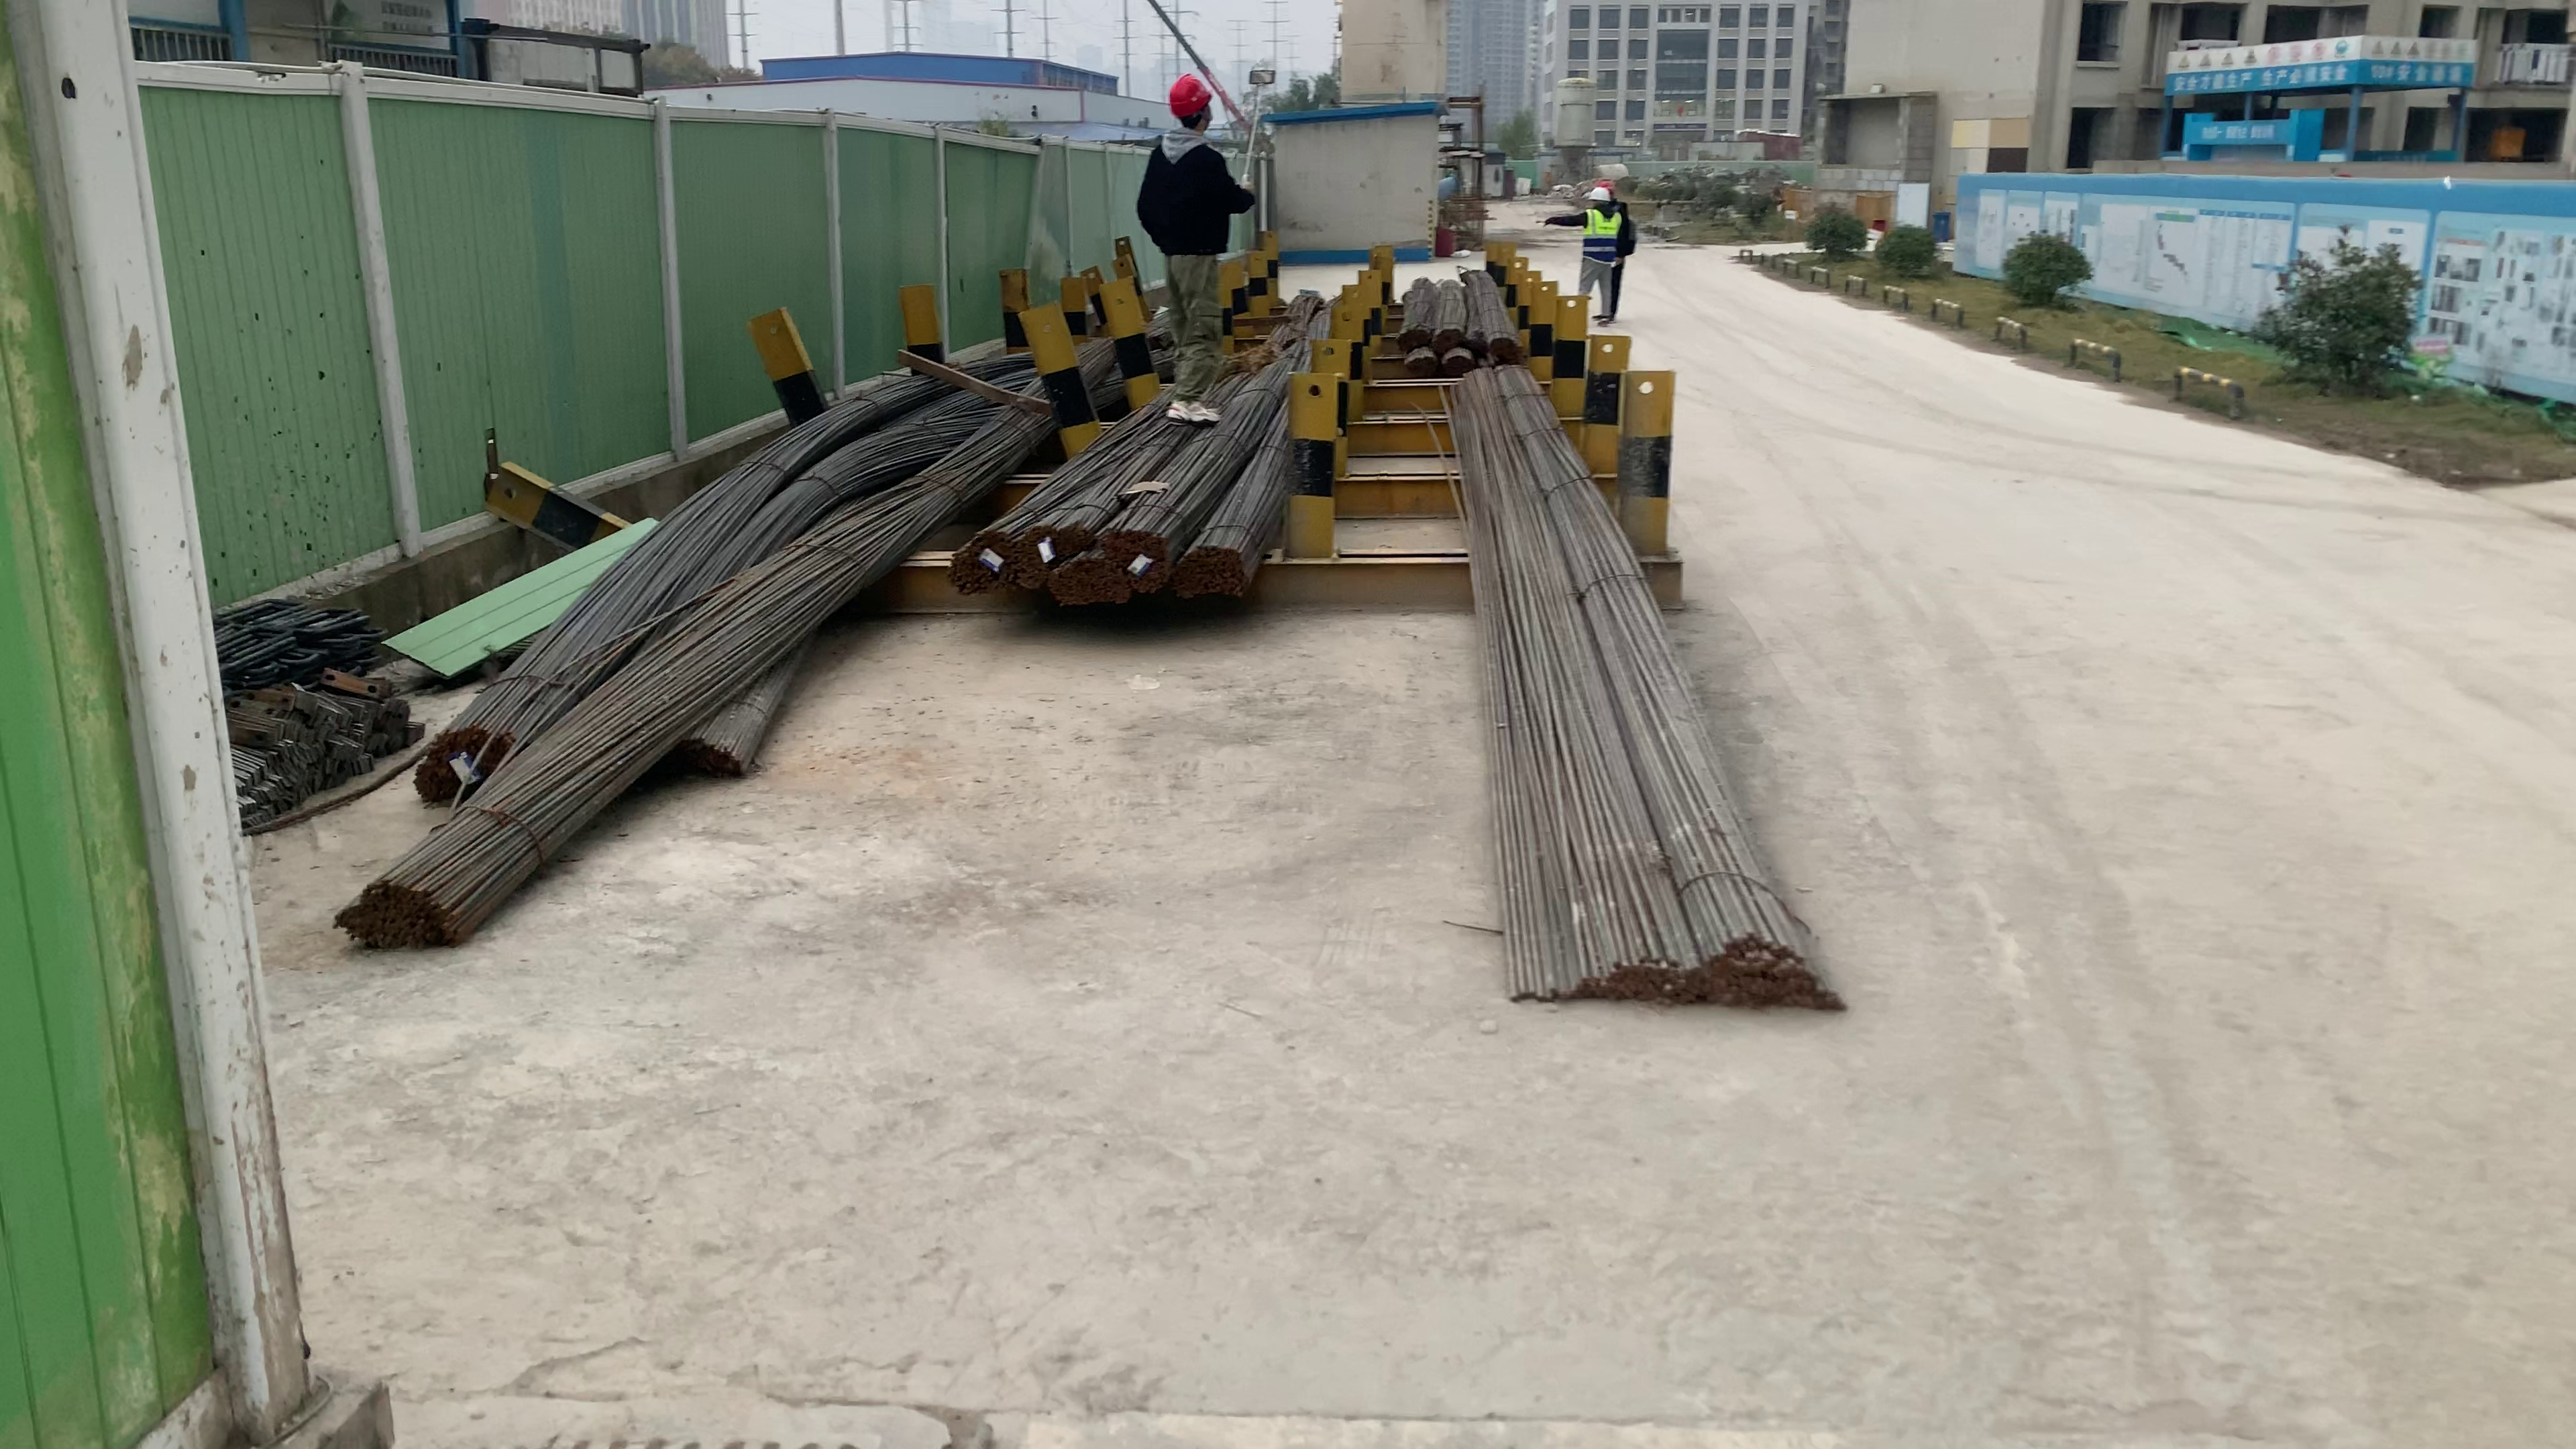rebar: (1509, 938, 1851, 1019), (333, 883, 464, 952), (419, 718, 510, 794), (1016, 527, 1092, 591), (1108, 524, 1169, 594), (669, 727, 750, 778), (945, 533, 1012, 589), (1178, 541, 1244, 596), (1054, 559, 1123, 602), (1403, 352, 1440, 379), (1493, 334, 1522, 364), (1391, 324, 1426, 343), (1438, 317, 1458, 345), (1447, 350, 1467, 370)
